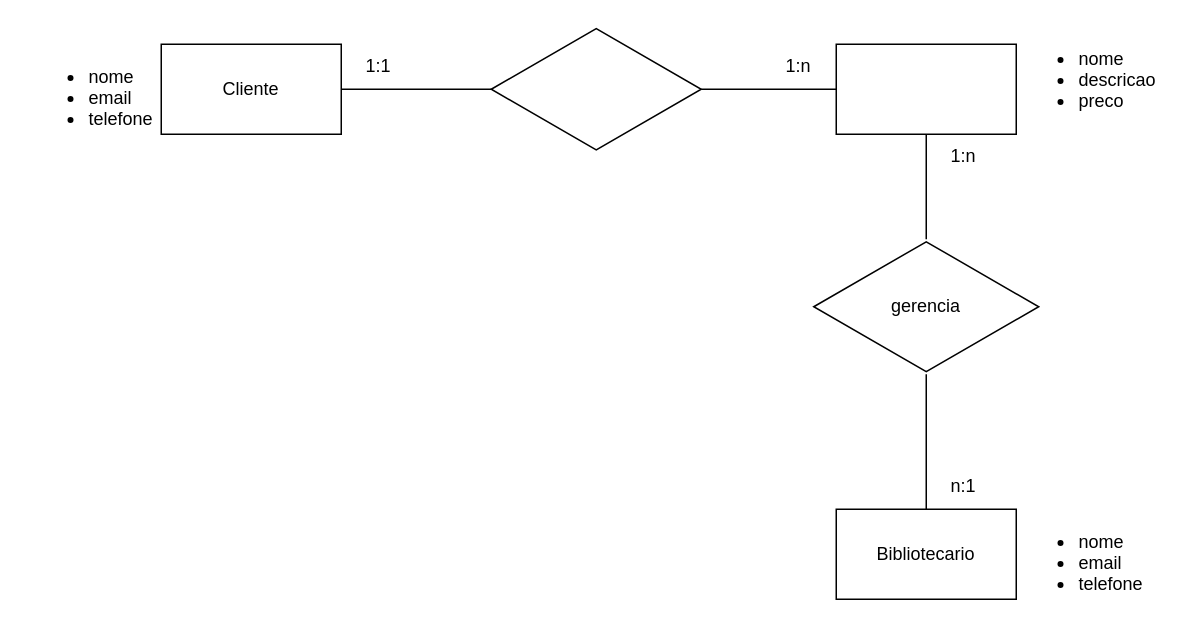
Some shapes in this 1191 by 626 pixel diagram are drawn without their labels. The centre of each missing label's shape, as x and y in pixels:
comprar/alugar: (x=595, y=88)
Livro: (x=925, y=88)
